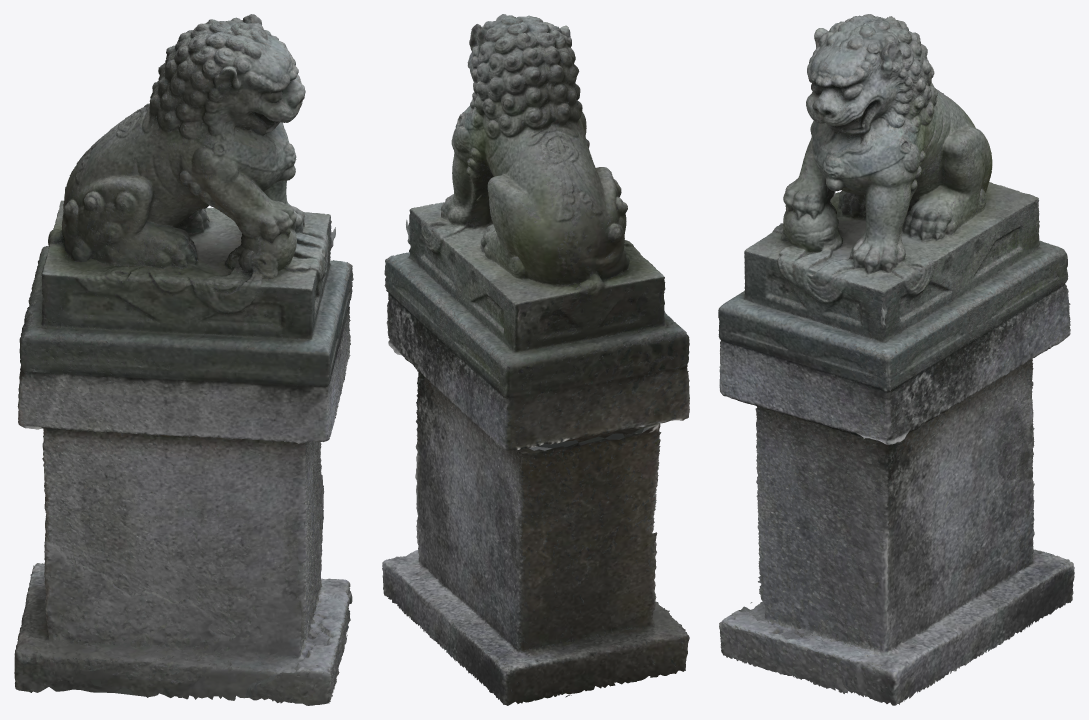
Rendered from lion_guardian (1).glb.
3 renders of one model, left to right at view 1: azimuth 30°, elevation 25°; view 2: azimuth 150°, elevation 25°; view 3: azimuth 270°, elevation 25°, orthographic. The views are drawn at different scales.
Parts seen in each view (by area): view 1: Object_2; view 2: Object_2; view 3: Object_2.
Boxes of the visible parts, bbox=[...] form: Object_2: bbox=[14, 14, 353, 705]; Object_2: bbox=[382, 14, 689, 705]; Object_2: bbox=[718, 14, 1074, 705].
Size of the model in its own units: 682 by 1250 by 649.
Materials: 1 (1 with a texture image).
